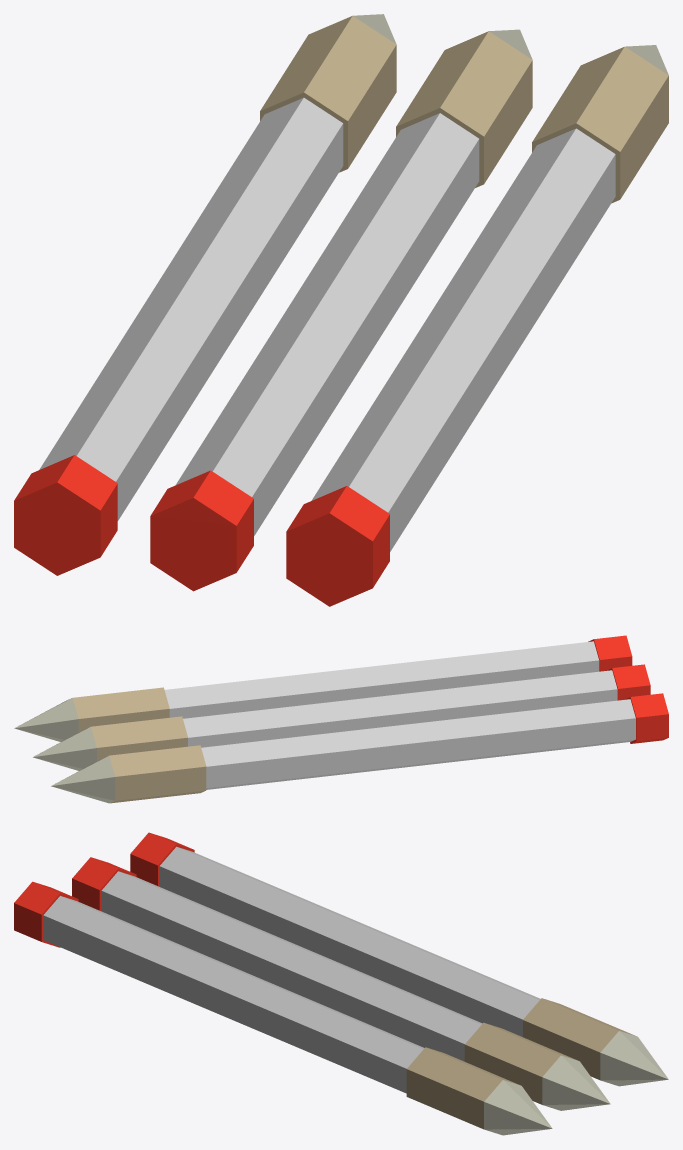
File: ce_ammo2_s5_heat_b.obj
3 views of the same model, one above another, from view 1: azimuth 30°, elevation 25°; view 2: azimuth 150°, elevation 25°; view 3: azimuth 270°, elevation 25° (orthographic). The views are drawn at different scales.
Parts seen in each view (by area): view 1: ce_ammo2_s5_heat_b_1, ce_ammo2_s5_heat_b_9, ce_ammo2_s5_heat_b_5, ce_ammo2_s5_heat_b_2, ce_ammo2_s5_heat_b_10, ce_ammo2_s5_heat_b_6, ce_ammo2_s5_heat_b_8, ce_ammo2_s5_heat_b_0, ce_ammo2_s5_heat_b_4; view 2: ce_ammo2_s5_heat_b_1, ce_ammo2_s5_heat_b_9, ce_ammo2_s5_heat_b_5, ce_ammo2_s5_heat_b_2, ce_ammo2_s5_heat_b_10, ce_ammo2_s5_heat_b_6, ce_ammo2_s5_heat_b_3, ce_ammo2_s5_heat_b_0, ce_ammo2_s5_heat_b_11, ce_ammo2_s5_heat_b_7, ce_ammo2_s5_heat_b_4, ce_ammo2_s5_heat_b_8; view 3: ce_ammo2_s5_heat_b_9, ce_ammo2_s5_heat_b_1, ce_ammo2_s5_heat_b_5, ce_ammo2_s5_heat_b_10, ce_ammo2_s5_heat_b_6, ce_ammo2_s5_heat_b_2, ce_ammo2_s5_heat_b_3, ce_ammo2_s5_heat_b_7, ce_ammo2_s5_heat_b_11, ce_ammo2_s5_heat_b_8, ce_ammo2_s5_heat_b_0, ce_ammo2_s5_heat_b_4.
Part boxes in pixels (<box>): ce_ammo2_s5_heat_b_1: <box>39,97,343,520</box>; ce_ammo2_s5_heat_b_9: <box>311,128,615,551</box>; ce_ammo2_s5_heat_b_5: <box>176,113,479,535</box>; ce_ammo2_s5_heat_b_2: <box>260,16,396,172</box>; ce_ammo2_s5_heat_b_10: <box>532,46,668,203</box>; ce_ammo2_s5_heat_b_6: <box>396,31,532,187</box>; ce_ammo2_s5_heat_b_8: <box>286,486,389,606</box>; ce_ammo2_s5_heat_b_0: <box>14,455,117,575</box>; ce_ammo2_s5_heat_b_4: <box>150,470,253,591</box>; ce_ammo2_s5_heat_b_1: <box>201,699,635,789</box>; ce_ammo2_s5_heat_b_9: <box>164,641,599,718</box>; ce_ammo2_s5_heat_b_5: <box>183,670,617,747</box>; ce_ammo2_s5_heat_b_2: <box>109,745,206,803</box>; ce_ammo2_s5_heat_b_10: <box>73,687,169,732</box>; ce_ammo2_s5_heat_b_6: <box>91,716,187,761</box>; ce_ammo2_s5_heat_b_3: <box>51,756,115,803</box>; ce_ammo2_s5_heat_b_0: <box>625,693,668,743</box>; ce_ammo2_s5_heat_b_11: <box>14,698,78,741</box>; ce_ammo2_s5_heat_b_7: <box>33,727,96,770</box>; ce_ammo2_s5_heat_b_4: <box>606,664,650,700</box>; ce_ammo2_s5_heat_b_8: <box>588,635,632,671</box>; ce_ammo2_s5_heat_b_9: <box>43,896,424,1093</box>; ce_ammo2_s5_heat_b_1: <box>159,846,540,1036</box>; ce_ammo2_s5_heat_b_5: <box>101,871,482,1061</box>; ce_ammo2_s5_heat_b_10: <box>406,1047,518,1129</box>; ce_ammo2_s5_heat_b_6: <box>464,1022,577,1104</box>; ce_ammo2_s5_heat_b_2: <box>523,998,636,1079</box>; ce_ammo2_s5_heat_b_3: <box>600,1031,668,1086</box>; ce_ammo2_s5_heat_b_7: <box>542,1055,610,1110</box>; ce_ammo2_s5_heat_b_11: <box>484,1080,552,1135</box>; ce_ammo2_s5_heat_b_8: <box>14,881,78,947</box>; ce_ammo2_s5_heat_b_0: <box>130,832,194,886</box>; ce_ammo2_s5_heat_b_4: <box>72,857,136,911</box>.
Bounding box in the file's own units: 0.8368 × 0.0784 × 0.8368.
